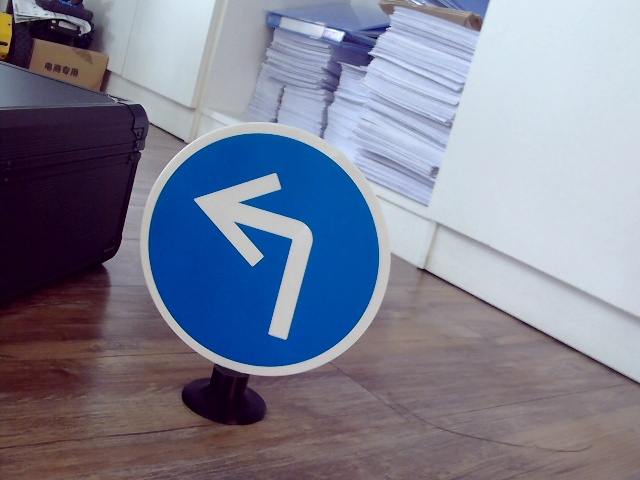turn_left: (188, 165, 334, 343)
